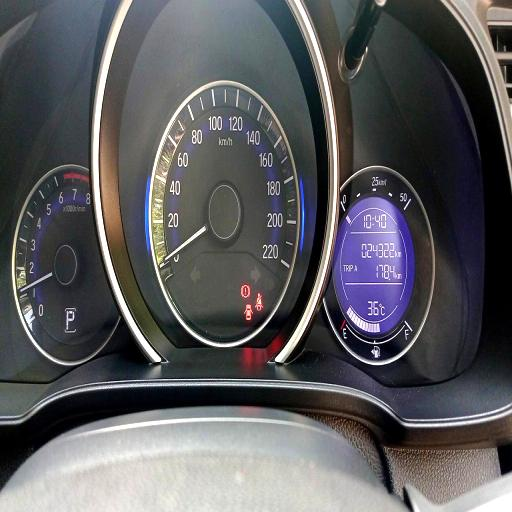belt: (255, 293, 263, 312)
brake_system_fault: (240, 284, 250, 299)
tachometer: (12, 162, 121, 365)
